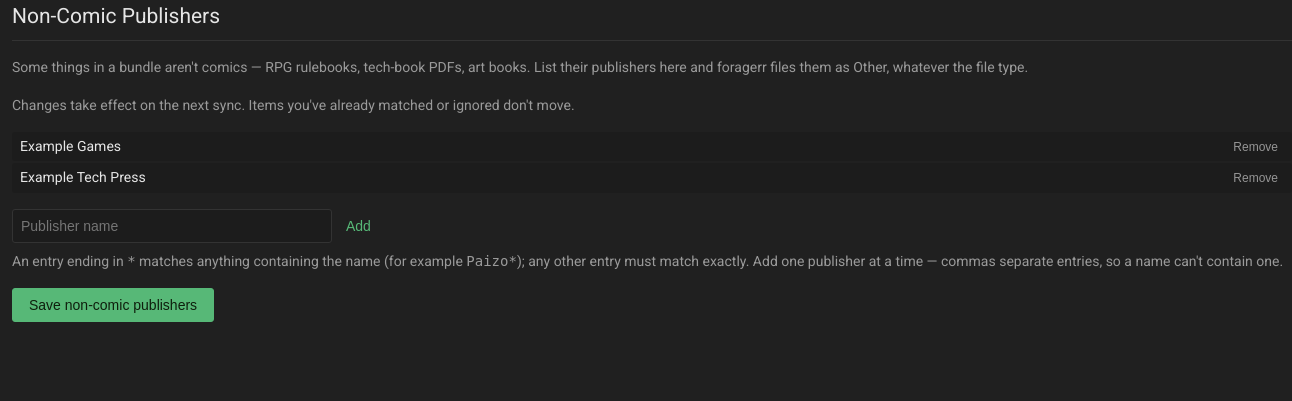
FRG-UI-046: Settings publisher-filtering panel › FRG-UI-046 — a * that is not at the end is refused with a hint
The width and height of the screenshot is (1292, 401).
Expected: the list item with test id "non-comic-publisher-Example Games" is shown, [12,132,1291,161]
Type "*Example Games" into the field with test id "non-comic-publishers-input". click: (172, 226)
box: [12,209,332,243]
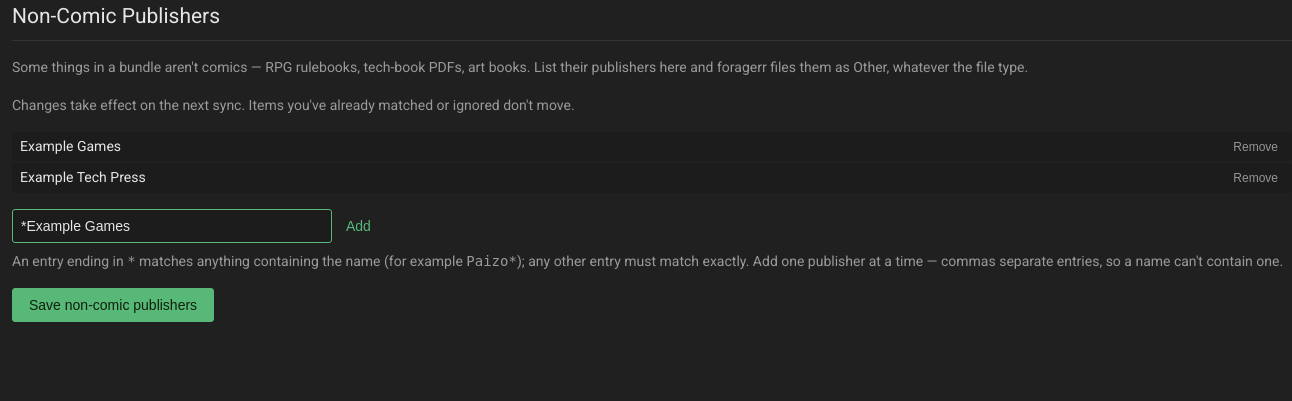
Click the button with test id "non-comic-publishers-add". click: (358, 226)
box: [340,217,377,235]
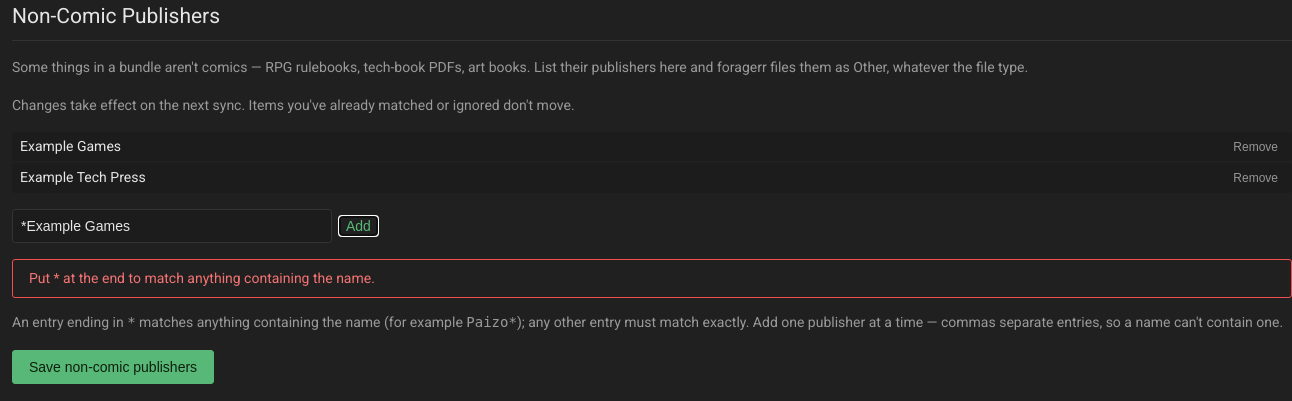
Now the message with test id "non-comic-publishers-hint" shows "Put * at the end", box [29,270,375,286]
